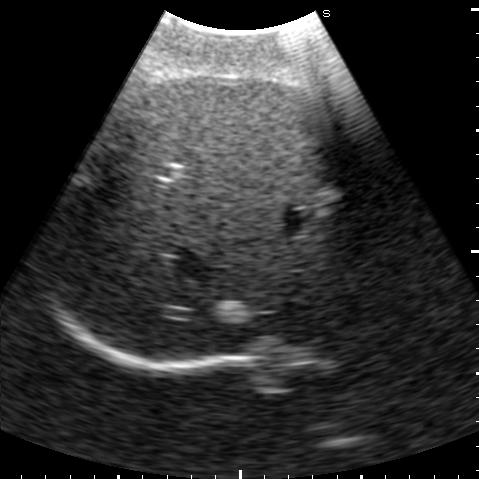S5: (125, 78, 343, 194)
S7: (47, 148, 158, 295)
S8: (97, 183, 367, 360)
Tumor: (211, 302, 248, 323), (311, 189, 340, 213)
